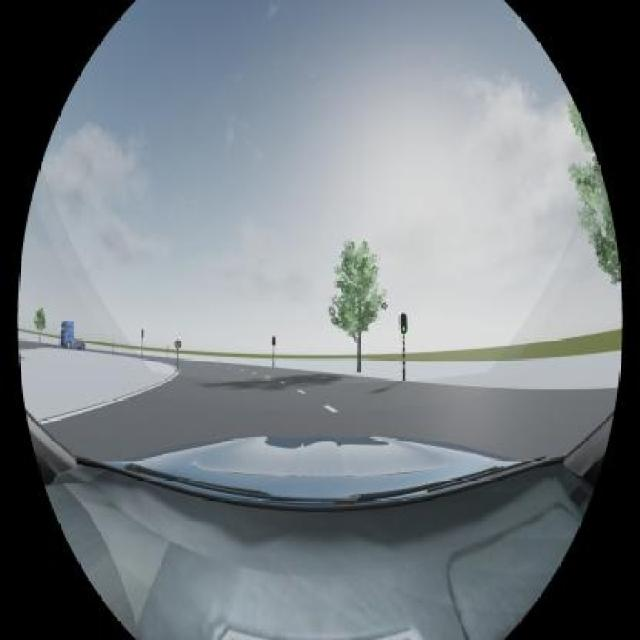forb_speed_over_70: (175, 340, 181, 349)
